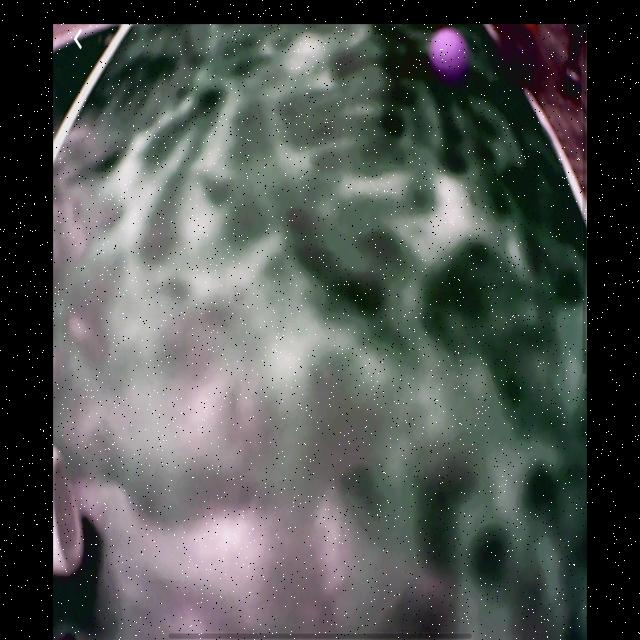ball: (432, 31, 469, 81)
